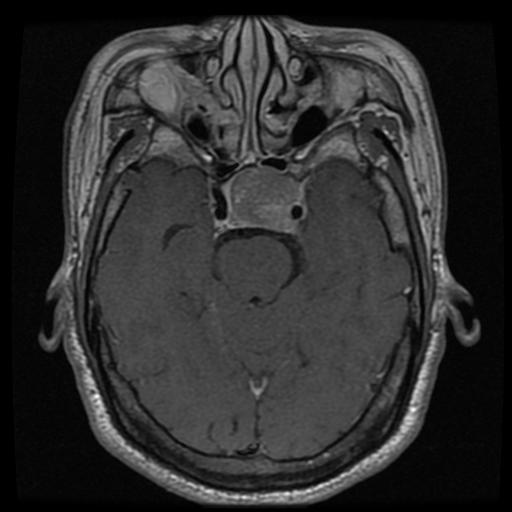Pituirity_tumour: (230, 168, 299, 226)
